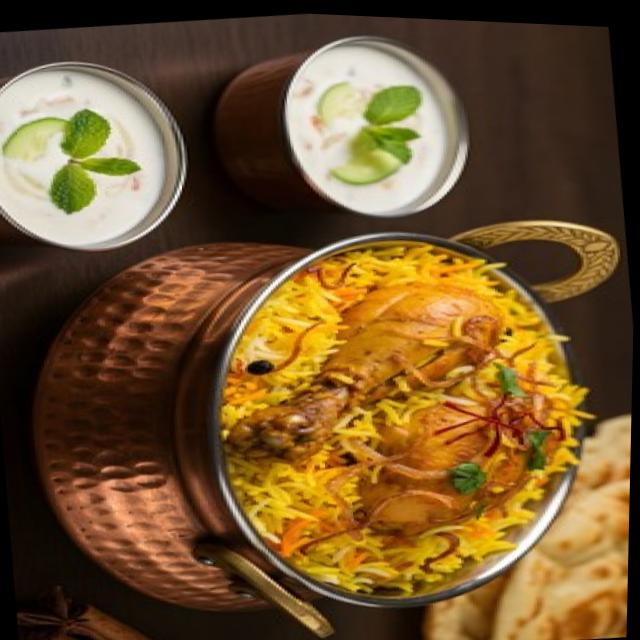BIRIYANI: (225, 245, 573, 592)
CURD: (0, 63, 185, 251), (282, 40, 446, 210)
